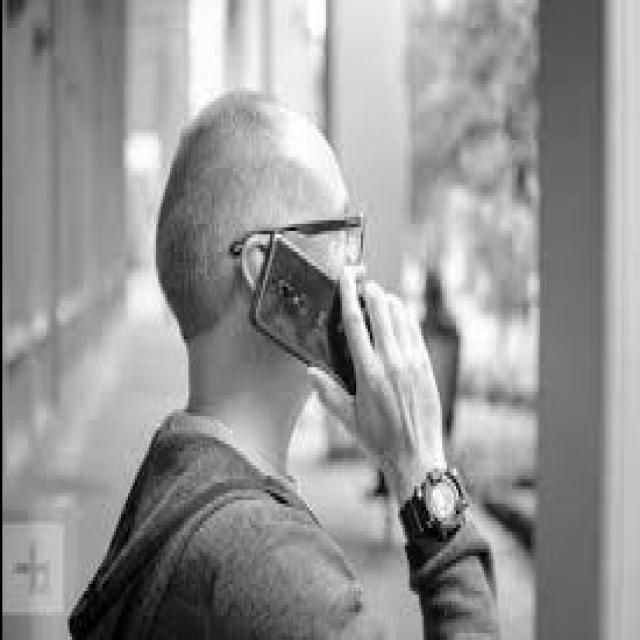phone: (231, 202, 463, 482)
